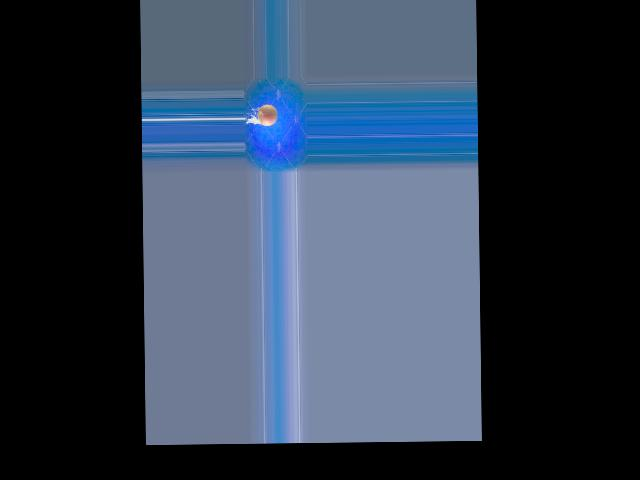tomato: (257, 103, 277, 125)
